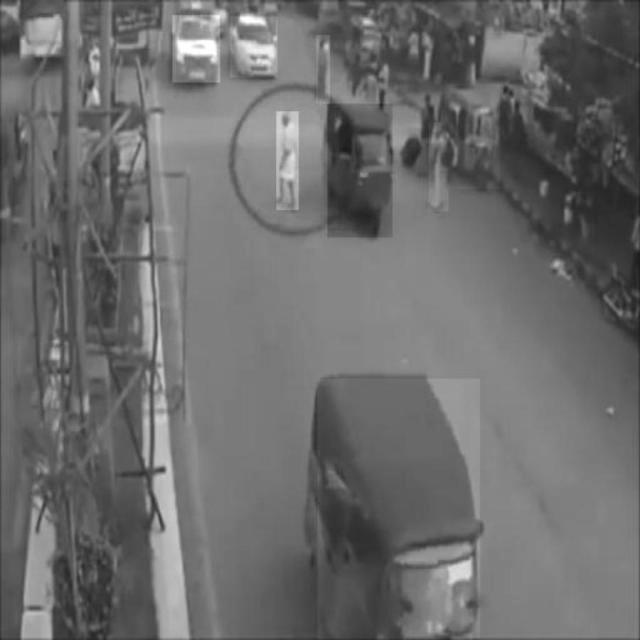person: (277, 112, 299, 210), (430, 123, 450, 211), (316, 35, 330, 103)
vehicle: (318, 379, 480, 639), (328, 104, 392, 238), (445, 84, 500, 188), (173, 16, 220, 83), (231, 17, 278, 78)
